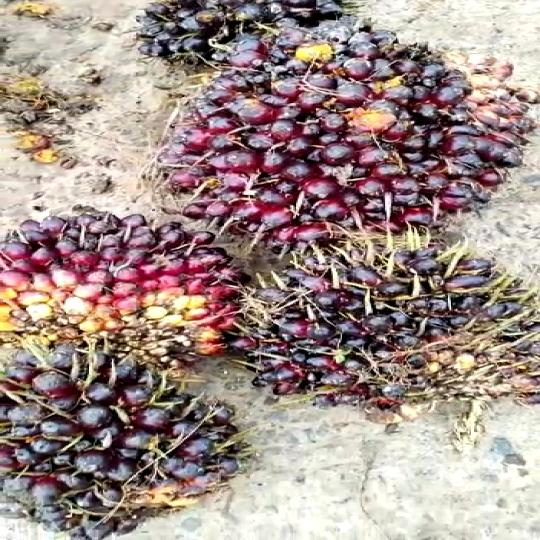kurang masak: (104, 0, 510, 242), (250, 258, 540, 400), (0, 379, 250, 540), (0, 203, 224, 372)
